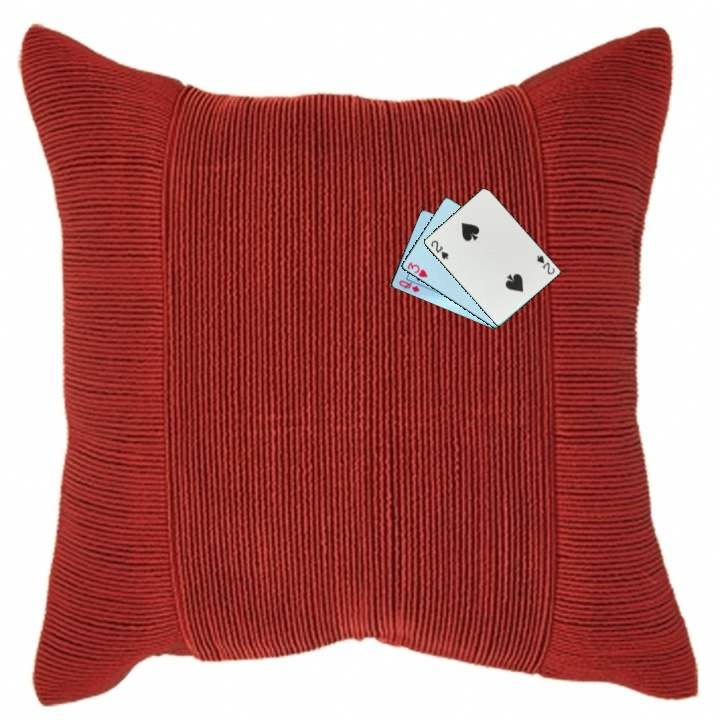2s: (427, 237, 451, 262), (533, 252, 557, 277)
3h: (403, 258, 431, 280)
Qd: (395, 277, 422, 295)
